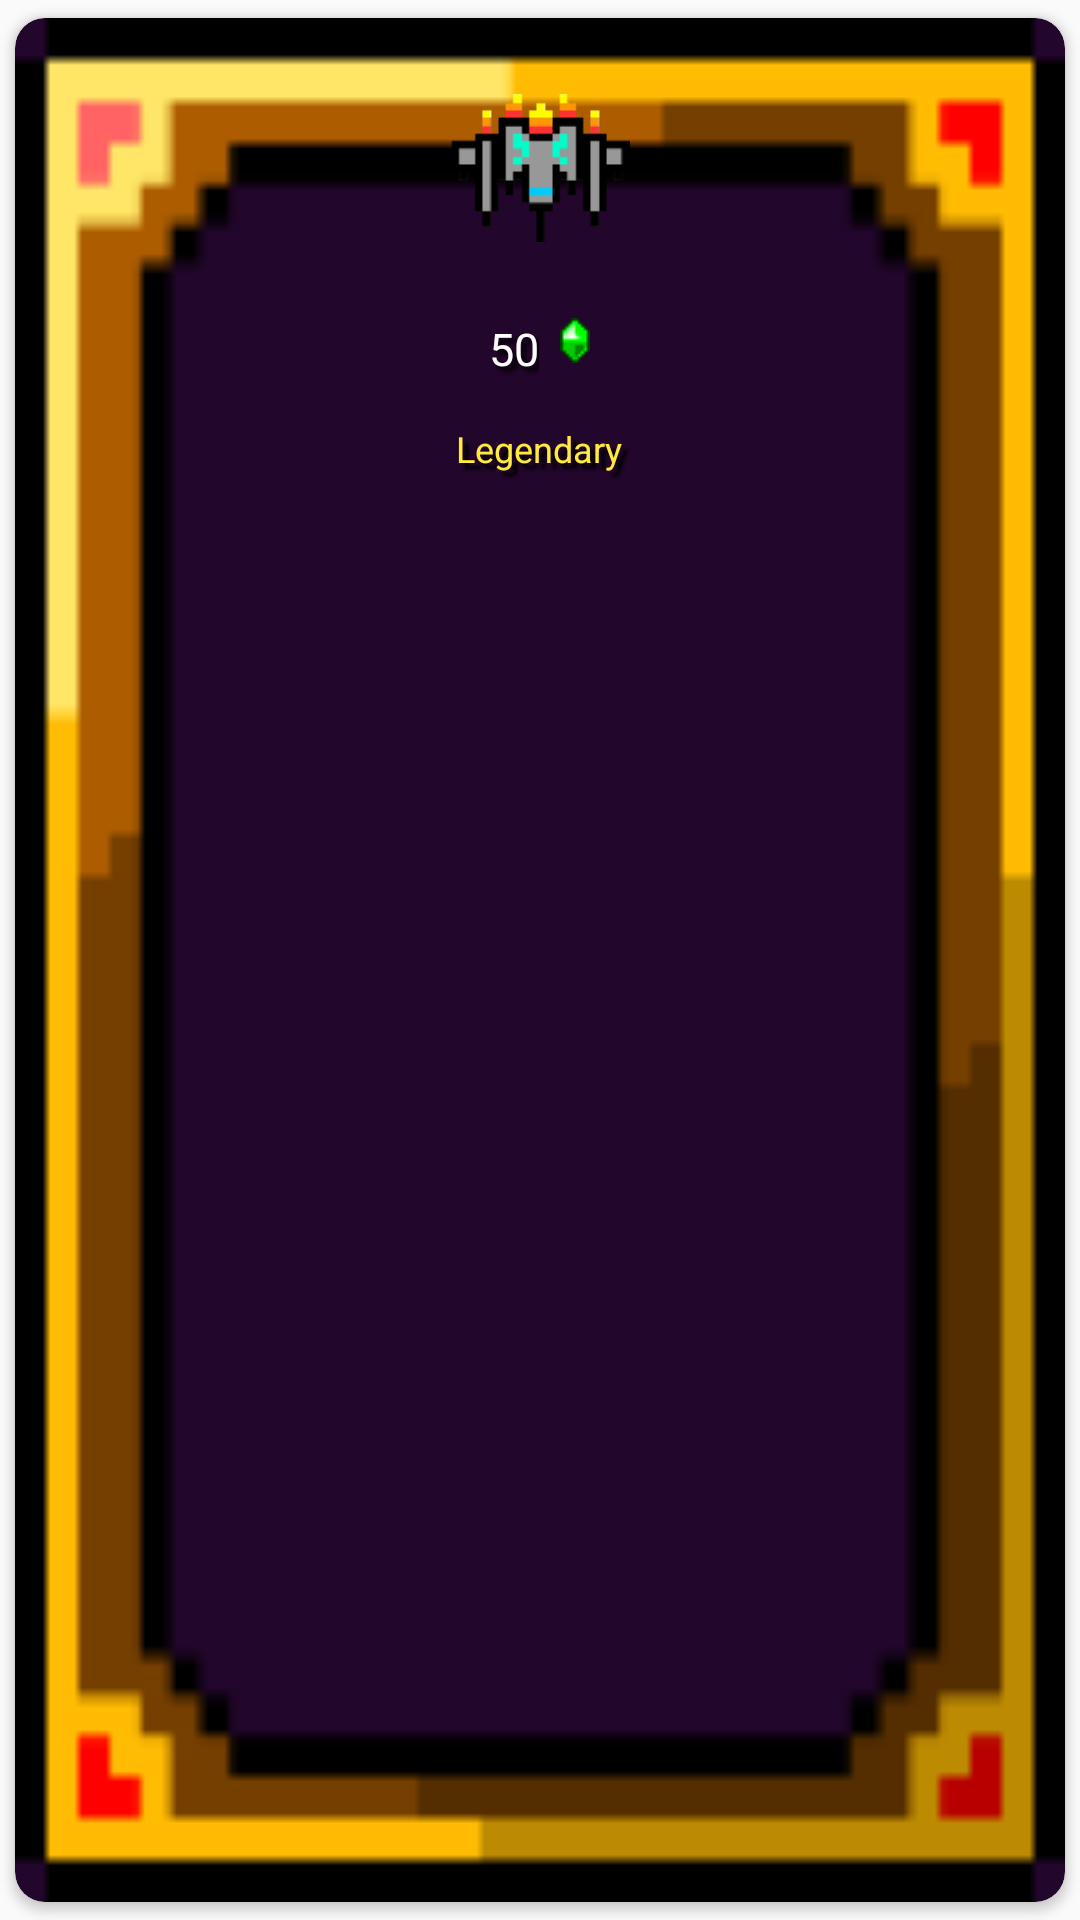

Screen size 1080 x 1920. Icon name, then its center in pixels as (x=x, y=y):
ship: (x=540, y=168)
